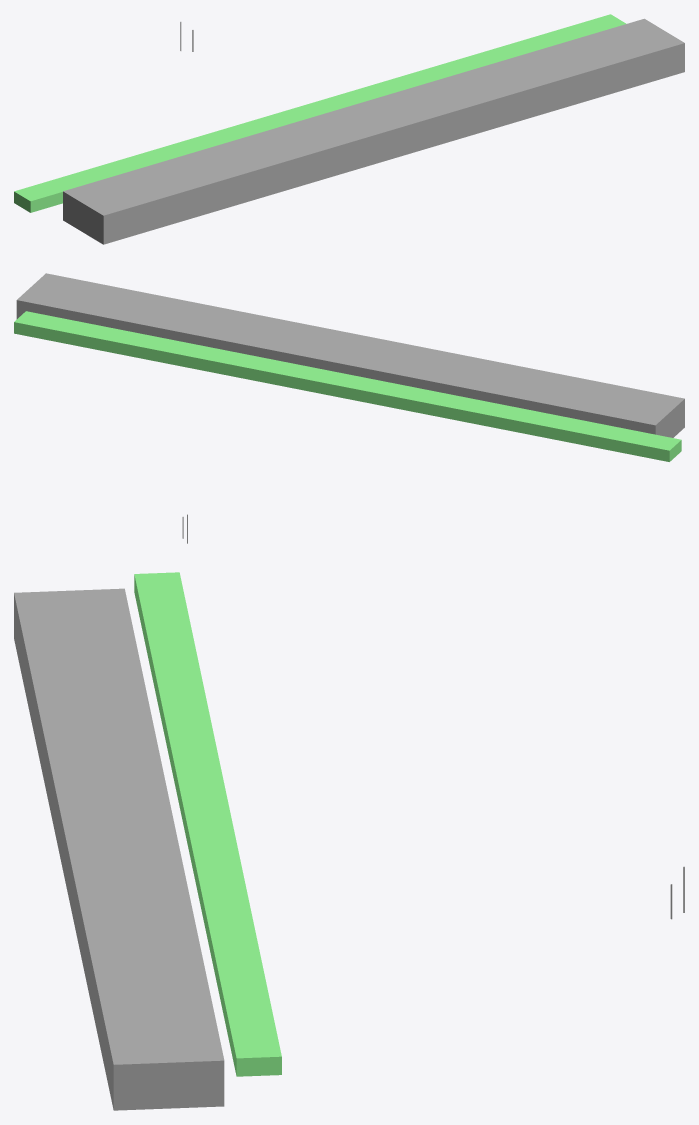
File: 1253_AR_AFP_BASE BUILDING_MASTER_malfredMXUZG_1AdpURx9v8fxrfh$v1S7UQ-LEVEL GROUND (EX STATION ENTRY)_IfcFlowSegment.dae
3 views of the same model, one above another, from view 1: azimuth 30°, elevation 25°; view 2: azimuth 150°, elevation 25°; view 3: azimuth 270°, elevation 25° (orthographic). The views are drawn at different scales.
Visible parts, largest first — view 1: 0L1$p04PHEJ99LPQ1K4ucQ, 0L1$p04PHEJ99LPQ1K4cGb; view 2: 0L1$p04PHEJ99LPQ1K4ucQ, 0L1$p04PHEJ99LPQ1K4cGb; view 3: 0L1$p04PHEJ99LPQ1K4ucQ, 0L1$p04PHEJ99LPQ1K4cGb.
Boxes of the visible parts, bbox=[...] form: 0L1$p04PHEJ99LPQ1K4ucQ: bbox=[63, 18, 684, 244]; 0L1$p04PHEJ99LPQ1K4cGb: bbox=[14, 14, 626, 212]; 0L1$p04PHEJ99LPQ1K4ucQ: bbox=[16, 273, 684, 437]; 0L1$p04PHEJ99LPQ1K4cGb: bbox=[14, 311, 681, 461]; 0L1$p04PHEJ99LPQ1K4ucQ: bbox=[14, 588, 224, 1110]; 0L1$p04PHEJ99LPQ1K4cGb: bbox=[134, 572, 281, 1076].
Bounding box in the file's own units: 23.43 × 13.27 × 2.11.
